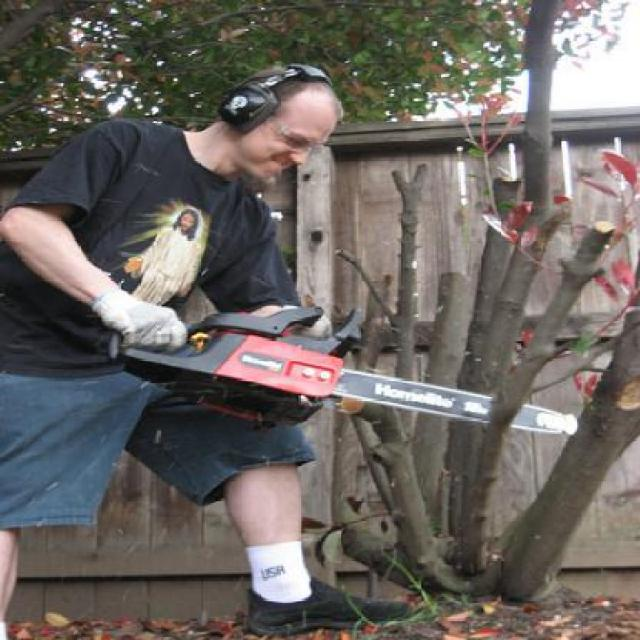Chainsaw: (108, 300, 577, 438)
